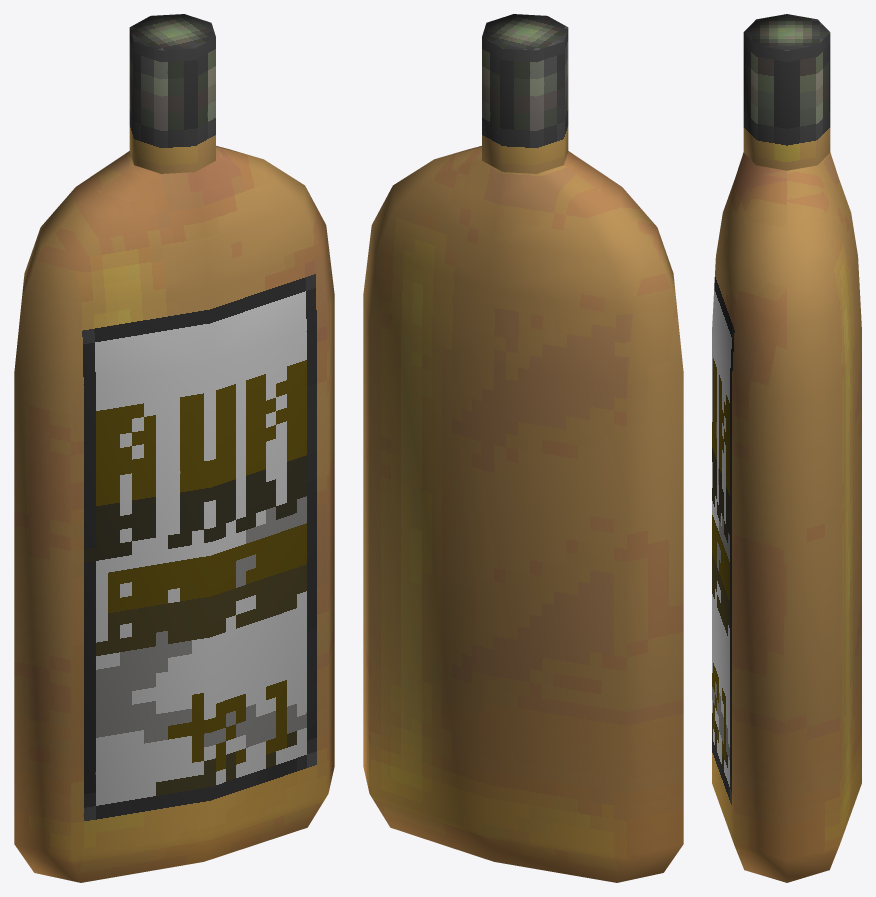
Rendered from RumBottle.fbx.
3 views of the same model, side by side, from view 1: azimuth 30°, elevation 25°; view 2: azimuth 150°, elevation 25°; view 3: azimuth 270°, elevation 25° (orthographic). The views are drawn at different scales.
Parts seen in each view (by area): view 1: RumBottle; view 2: RumBottle; view 3: RumBottle.
Boxes of the visible parts, x1=… form: RumBottle: x1=14, y1=14, x2=334, y2=882; RumBottle: x1=363, y1=14, x2=683, y2=882; RumBottle: x1=712, y1=14, x2=861, y2=882.
Size of the model in its own units: 20.44 by 49.16 by 8.5.
